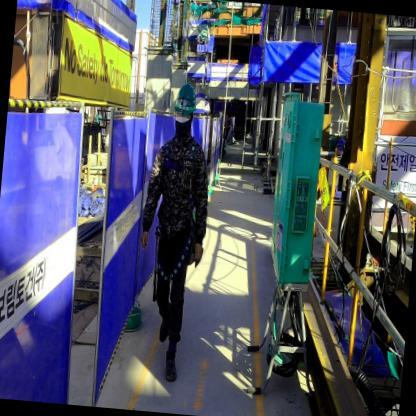Helmet: (170, 81, 204, 120)
safety-shoe: (164, 344, 183, 390)
